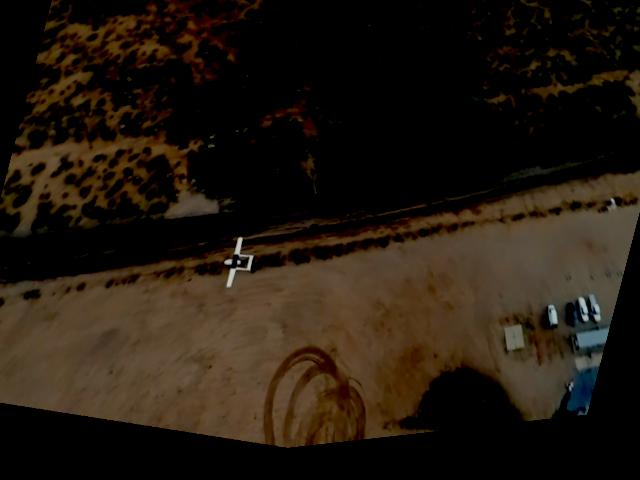plane: (217, 239, 259, 300)
